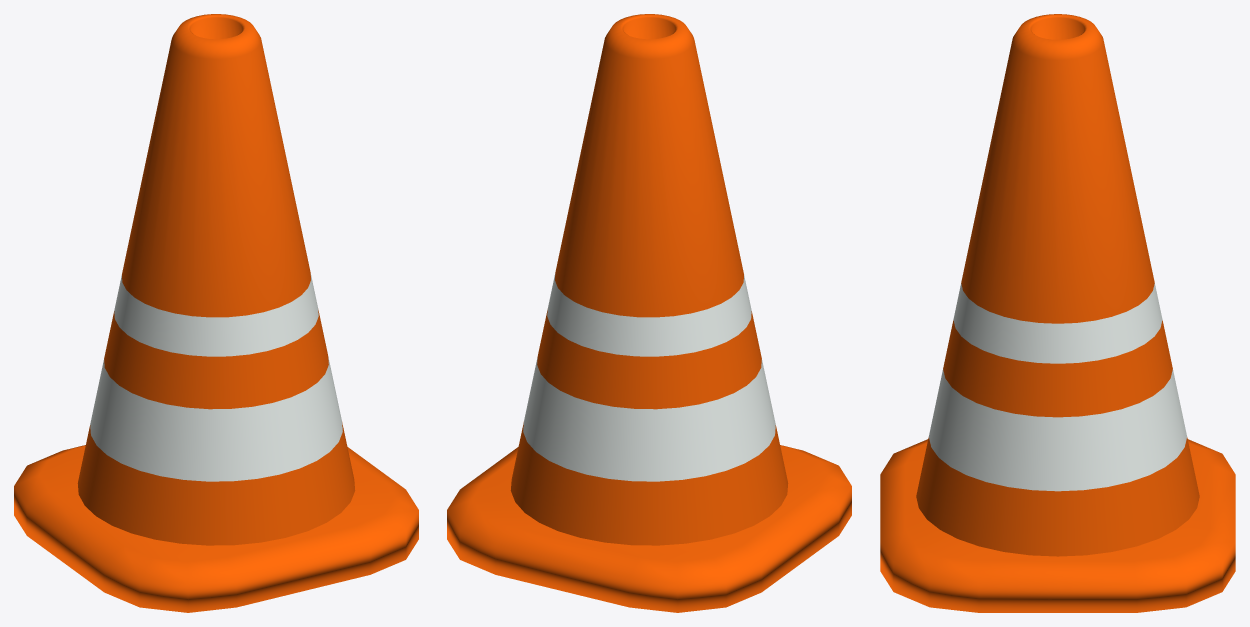
The picture shows the model from 3 angles, left to right: view 1: azimuth 30°, elevation 25°; view 2: azimuth 150°, elevation 25°; view 3: azimuth 270°, elevation 25°; orthographic projection. The views are drawn at different scales.
Visible parts, largest first — view 1: Cube; view 2: Cube; view 3: Cube.
Boxes of the visible parts, <box> form: Cube: <box>14,14,418,612</box>; Cube: <box>447,14,851,612</box>; Cube: <box>880,14,1235,612</box>.
Size of the model in its own units: 247 by 391 by 247.
